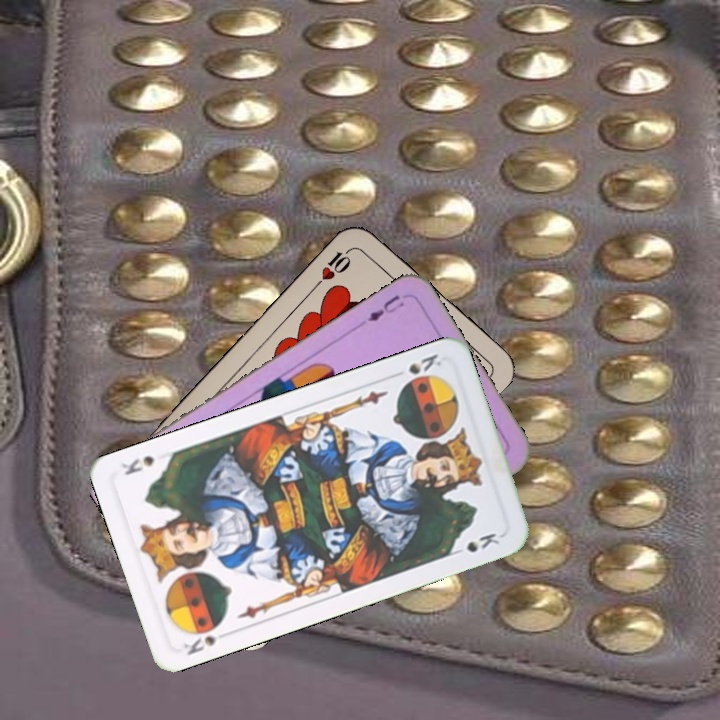EU: (363, 291, 407, 325)
H10: (311, 242, 357, 290)
SK: (179, 618, 232, 658), (388, 350, 444, 380)
